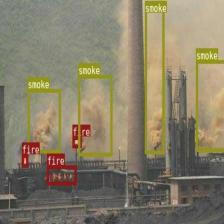fire: (47, 165, 76, 184), (72, 136, 81, 148), (21, 154, 28, 167)
smoke: (145, 1, 164, 153), (78, 75, 112, 155), (195, 59, 224, 151), (27, 89, 60, 152)
